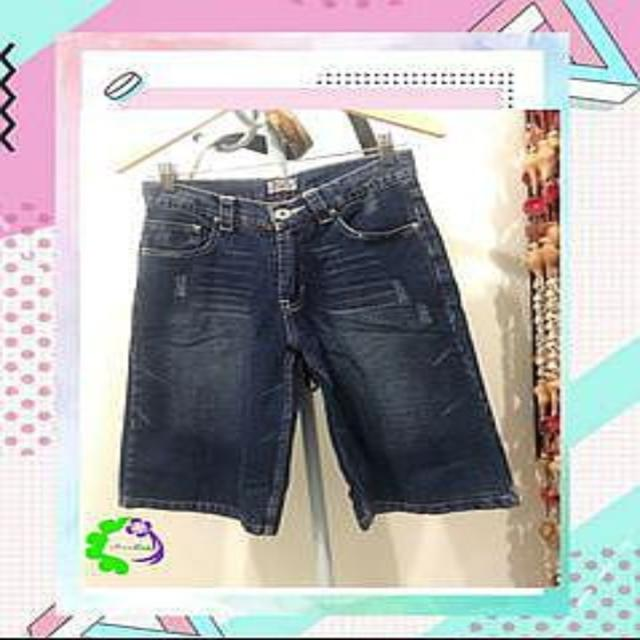SHORT: (100, 144, 539, 536)
